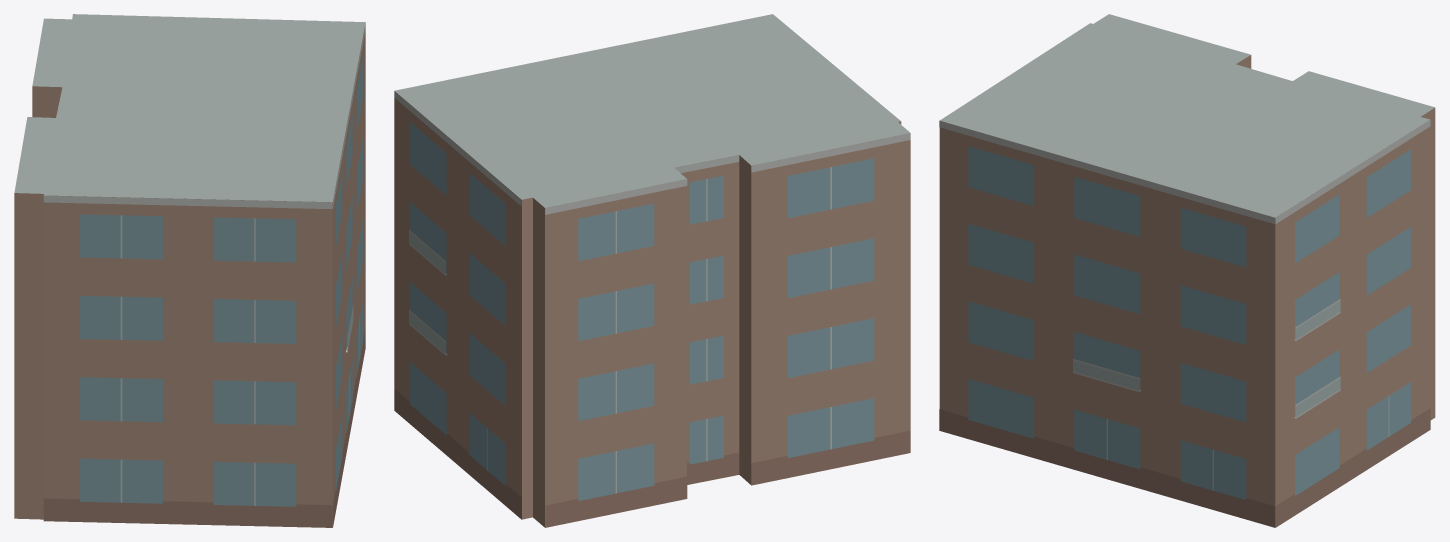
File: survey-upis-32655009.glb
The picture shows the model from 3 angles, left to right: view 1: azimuth 30°, elevation 25°; view 2: azimuth 150°, elevation 25°; view 3: azimuth 270°, elevation 25°; orthographic projection. The views are drawn at different scales.
Visible parts, largest first — view 1: survey-upis-32655009.tmp; view 2: survey-upis-32655009.tmp; view 3: survey-upis-32655009.tmp.
Part boxes in pixels (left/top/right/bottom): survey-upis-32655009.tmp: left=14, top=14, right=365, bottom=527; survey-upis-32655009.tmp: left=394, top=14, right=910, bottom=527; survey-upis-32655009.tmp: left=939, top=14, right=1435, bottom=527.
Bounding box in the file's own units: 16 × 11.35 × 16.46.
